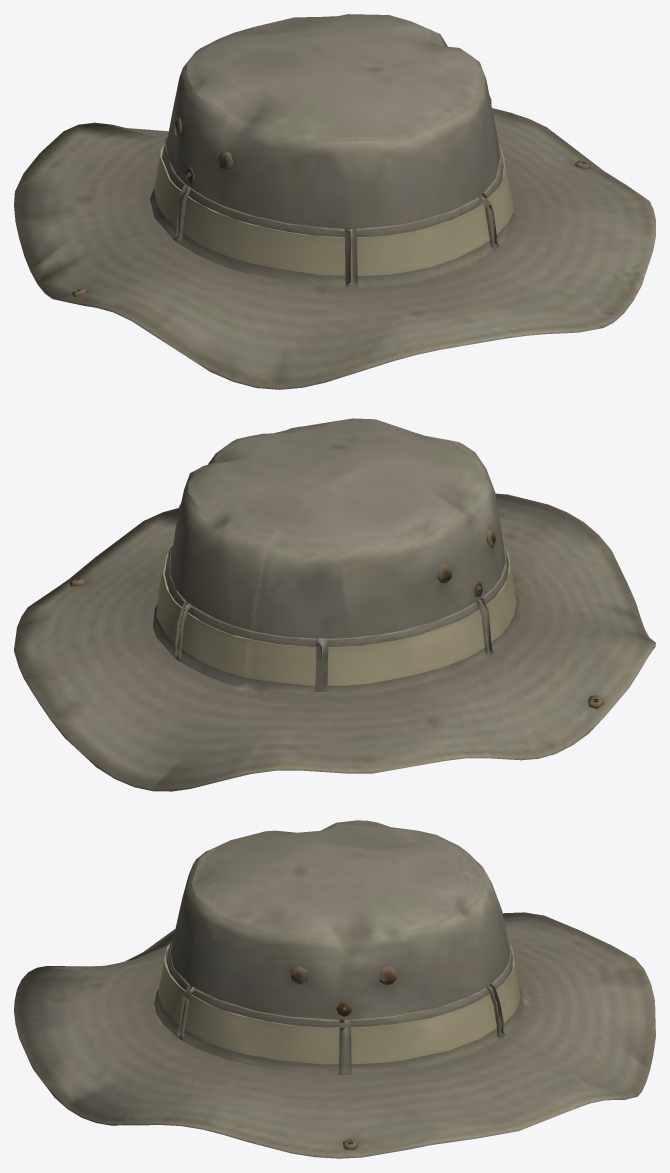
Rendered from hat.glb.
The picture shows the model from 3 angles, top to bottom: view 1: azimuth 30°, elevation 25°; view 2: azimuth 150°, elevation 25°; view 3: azimuth 270°, elevation 25°; orthographic projection. The views are drawn at different scales.
Parts seen in each view (by area): view 1: fishermans_hat; view 2: fishermans_hat; view 3: fishermans_hat.
Part boxes in pixels (left/top/right/bottom): fishermans_hat: left=14, top=14, right=655, bottom=389; fishermans_hat: left=14, top=418, right=655, bottom=791; fishermans_hat: left=14, top=820, right=655, bottom=1158.
Size of the model in its own units: 0.3236 by 0.1239 by 0.3497.
1 material, 1 textured.
